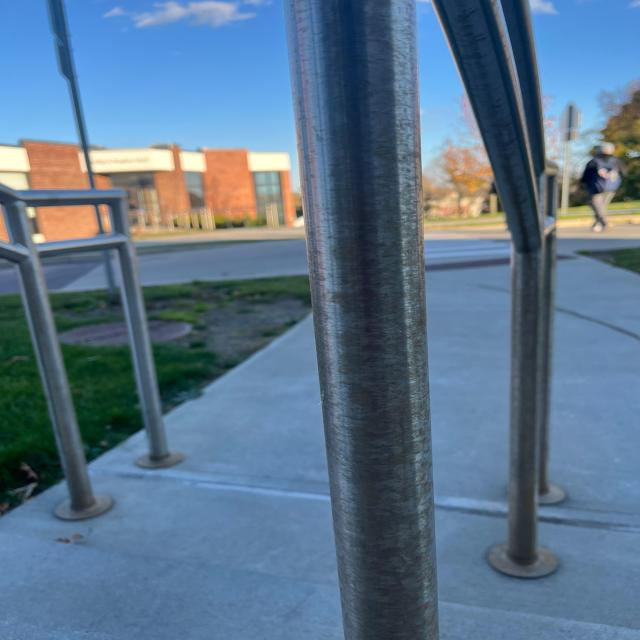Uniform Corrosion: (314, 119, 439, 640), (507, 253, 540, 576)
